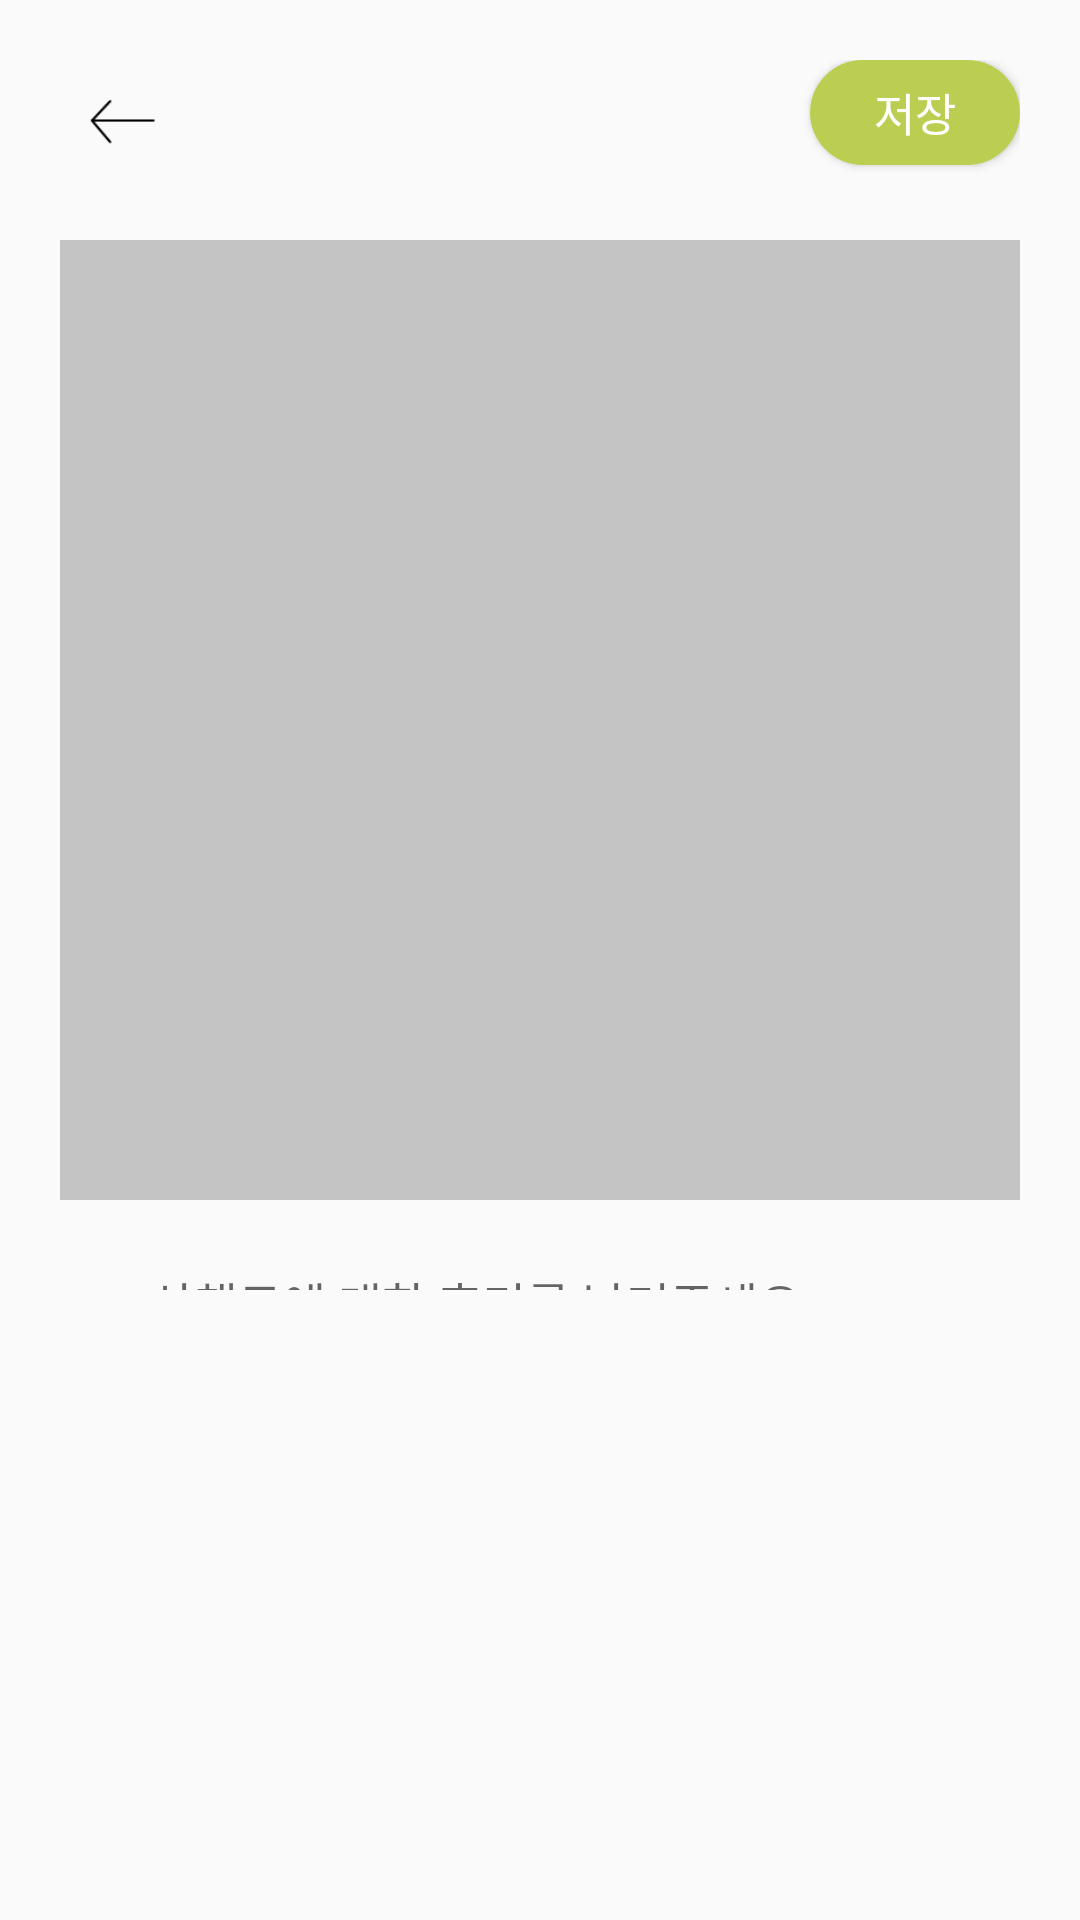

Icons on this 1080px x 1920px Android screen, each with its box as [left=x1, top=y1, right=x2, bottom=y2]:
back: [left=90, top=100, right=155, bottom=144]
